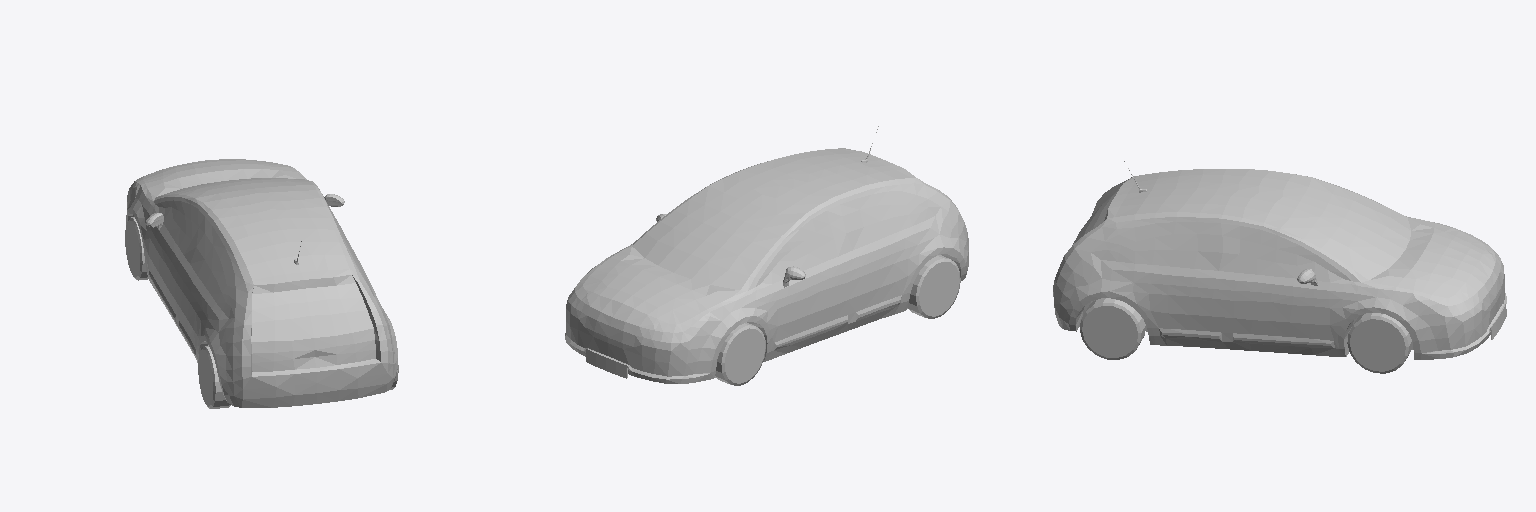
File: carsAI_000243.obj
3 renders of one model, left to right at view 1: azimuth 30°, elevation 25°; view 2: azimuth 150°, elevation 25°; view 3: azimuth 270°, elevation 25°, orthographic.
Parts seen in each view (by area): view 1: car_5, tire_6, tire_9; view 2: car_5, tire_6, tire_9; view 3: car_5, tire_8, tire_7.
Part boxes in pixels (bbox=[...]): car_5: bbox=[126, 159, 397, 407]; tire_6: bbox=[198, 345, 230, 408]; tire_9: bbox=[125, 217, 148, 280]; car_5: bbox=[565, 126, 968, 383]; tire_6: bbox=[907, 255, 960, 318]; tire_9: bbox=[715, 322, 765, 385]; car_5: bbox=[1053, 161, 1506, 359]; tire_8: bbox=[1080, 298, 1145, 359]; tire_7: bbox=[1347, 313, 1412, 373].
Size of the model in its own units: 64.31 by 42.14 by 108.